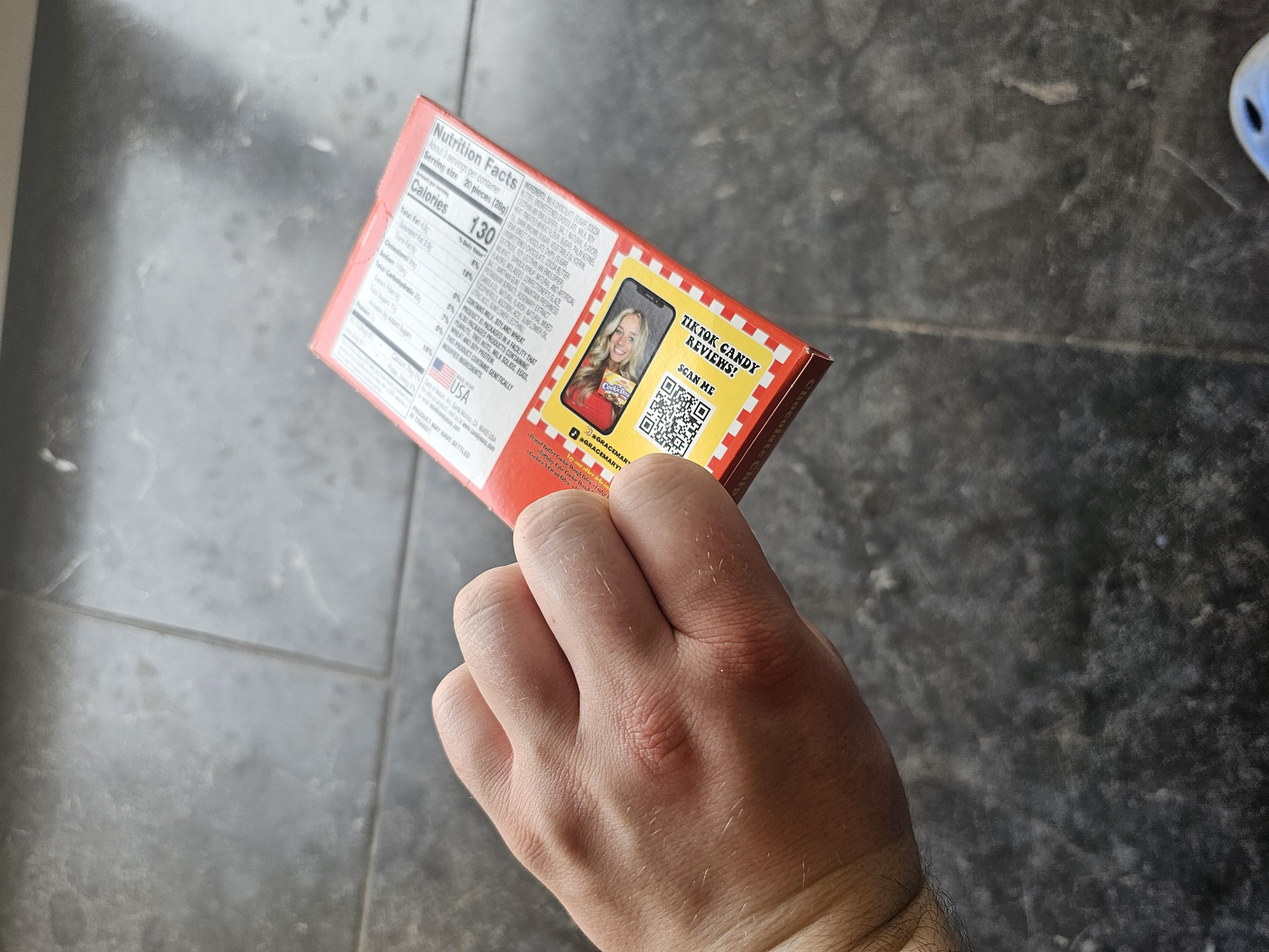Cardboard: (503, 234, 1152, 623)
